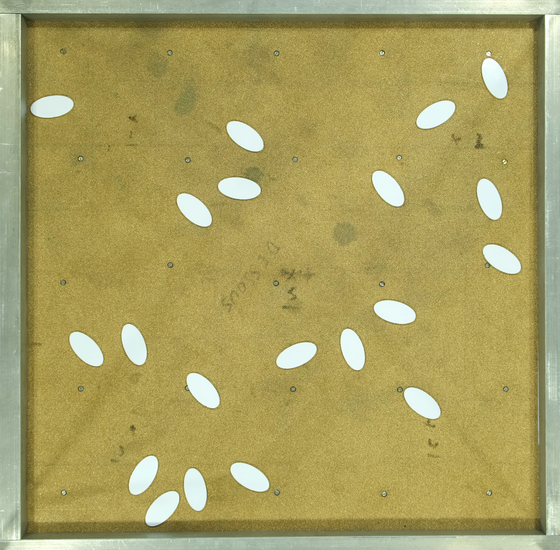pallet: (65, 326, 105, 369), (225, 115, 265, 158), (401, 381, 441, 424), (141, 488, 181, 531), (177, 467, 217, 510), (183, 370, 223, 413), (122, 455, 162, 498), (113, 321, 153, 364), (175, 189, 215, 232), (481, 240, 521, 283), (470, 178, 510, 221), (473, 57, 513, 100), (417, 95, 457, 138), (367, 169, 407, 212), (371, 294, 417, 331), (334, 328, 369, 374), (230, 459, 271, 498), (273, 336, 317, 372), (215, 173, 263, 205), (26, 89, 73, 121)
